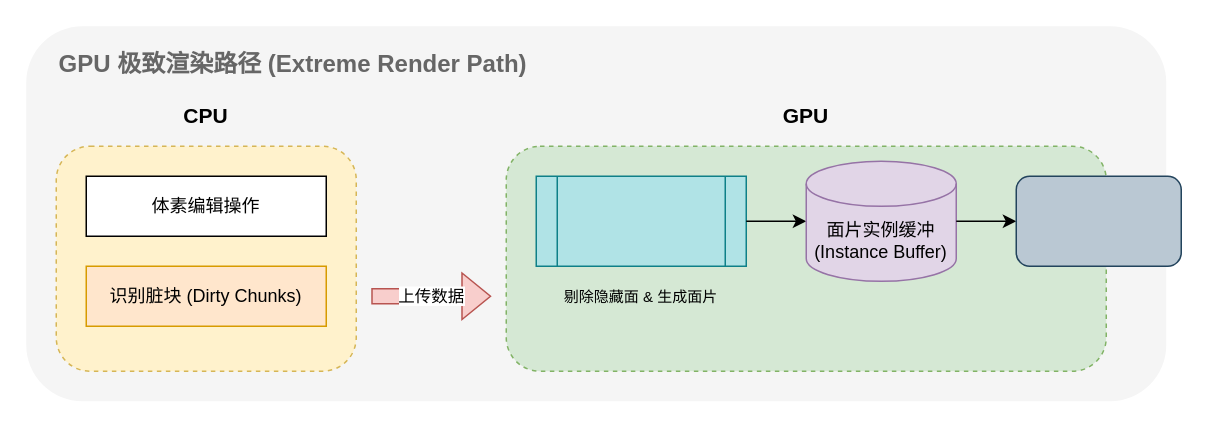
The diagram is 1208 pixels wide and 426 high, and some of its shapes have lost their labels. Each missing label, with the centre of its shape:
"视口渲染 (Instanced Draw)" goes at point 1098,220.
"计算着色器 (Compute Shader)" goes at point 640,220.
